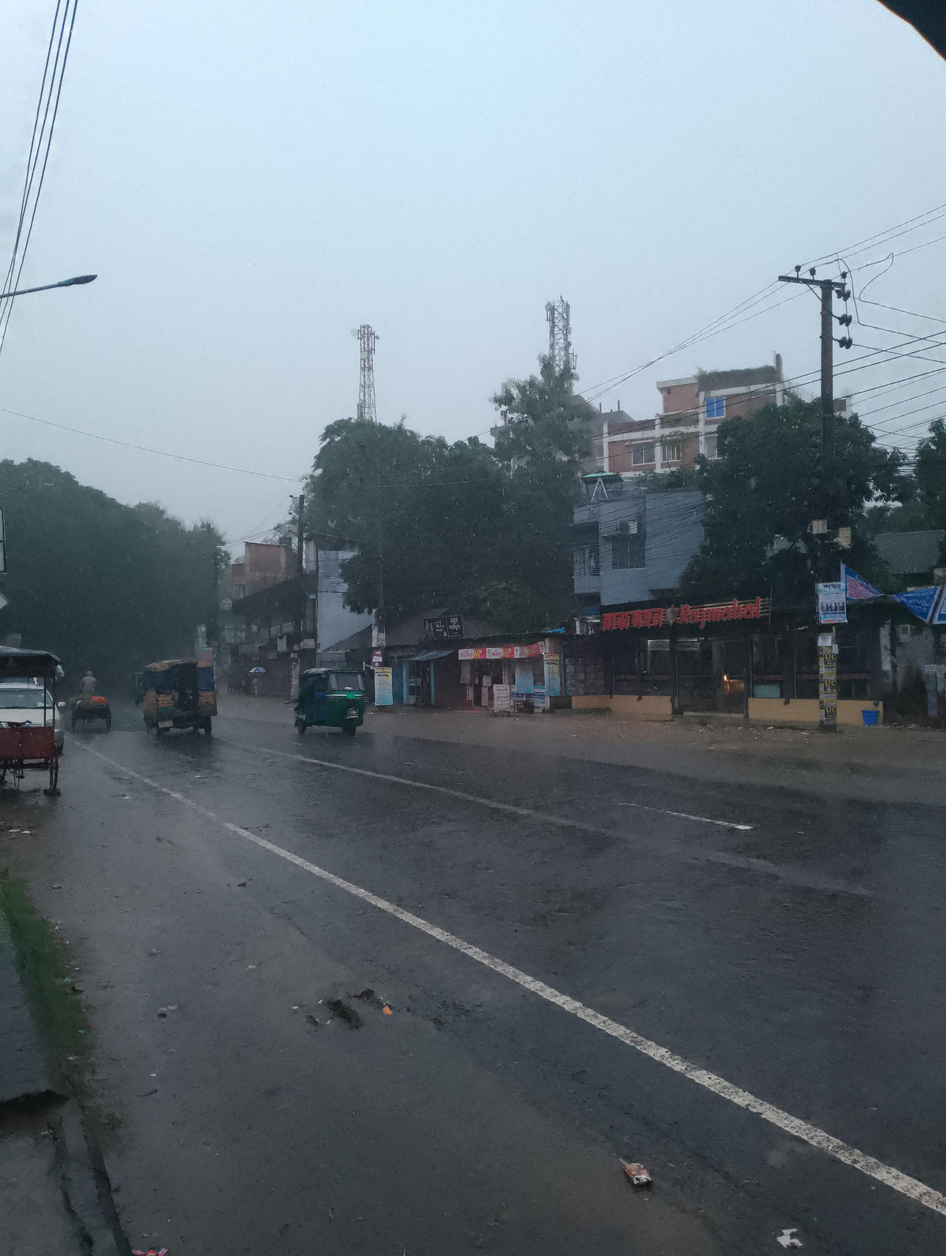Car: (131, 649, 227, 757)
